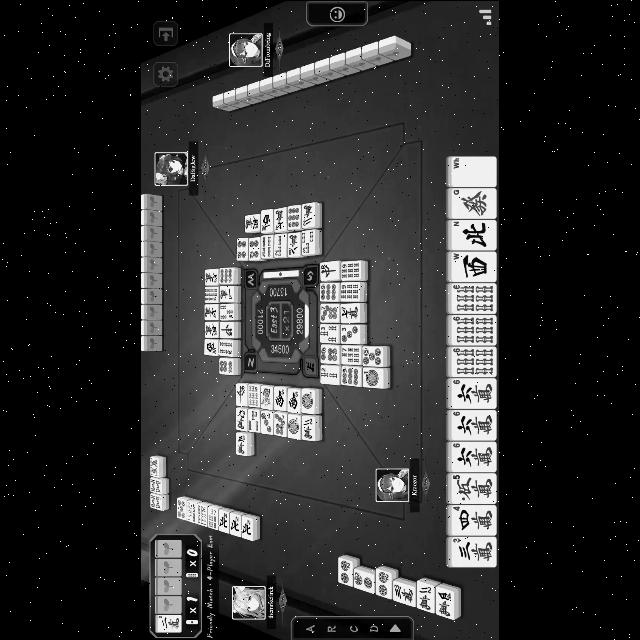1m: (220, 284, 234, 302)
1p: (363, 368, 382, 386), (288, 413, 300, 437), (302, 388, 314, 412)
1s: (261, 386, 273, 406)
2m: (416, 582, 434, 610), (157, 614, 180, 630), (302, 416, 316, 438), (302, 204, 314, 226)
2p: (376, 569, 392, 595), (354, 569, 374, 589), (338, 558, 352, 584)
2s: (320, 366, 338, 382), (274, 232, 286, 255)
3m: (452, 536, 496, 566), (392, 580, 416, 604), (235, 433, 247, 453)
3p: (341, 324, 361, 342), (261, 411, 273, 432)
3s: (319, 324, 339, 342), (302, 230, 314, 254), (248, 409, 260, 431), (220, 303, 234, 319)
4m: (452, 504, 496, 534), (437, 588, 453, 616)
4p: (236, 238, 248, 258), (250, 237, 260, 259)
4s: (261, 234, 273, 256), (220, 340, 234, 354)
5m: (450, 473, 496, 503), (244, 214, 260, 232), (205, 322, 219, 336)
5p: (362, 347, 382, 365), (177, 498, 187, 518)
5s: (188, 501, 196, 521)
6m: (452, 441, 496, 472), (453, 409, 495, 438), (452, 378, 494, 406)
6p: (321, 346, 339, 362), (219, 358, 235, 374)
6s: (450, 284, 496, 312), (451, 346, 495, 374), (452, 315, 496, 343), (197, 502, 207, 524)
7m: (341, 305, 359, 321), (274, 207, 286, 231), (205, 304, 217, 318)
7p: (320, 303, 340, 321), (274, 411, 286, 435)
7s: (341, 346, 359, 362), (208, 507, 218, 528)
8m: (288, 234, 300, 256)
8s: (150, 494, 162, 508), (151, 478, 163, 492), (150, 456, 158, 476)
9m: (204, 268, 220, 284), (205, 286, 219, 302), (236, 408, 247, 428)
9p: (340, 366, 360, 384), (320, 282, 340, 300), (288, 204, 300, 228), (219, 266, 233, 284)
9s: (340, 282, 360, 300), (342, 260, 361, 278), (248, 384, 260, 406)
chun: (320, 261, 340, 279), (236, 383, 246, 405), (220, 322, 234, 336)
hatsu: (451, 188, 497, 216)
nan: (288, 389, 302, 411), (275, 388, 285, 408)
pe: (449, 219, 496, 249), (450, 219, 496, 249), (218, 510, 230, 530), (242, 516, 252, 536), (230, 514, 240, 534)
sha: (451, 250, 497, 280), (451, 156, 497, 184), (261, 208, 273, 230), (204, 339, 218, 353)
